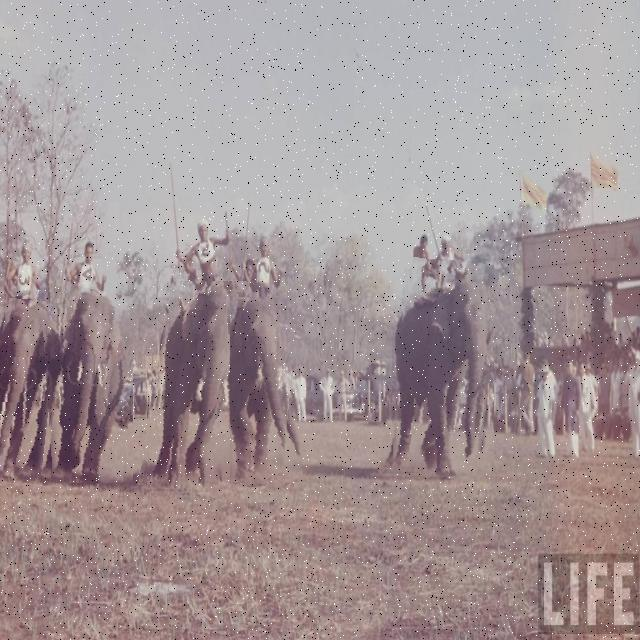elephant: (386, 259, 494, 478), (147, 281, 249, 497), (40, 284, 133, 483), (230, 297, 299, 486), (0, 299, 61, 485)
